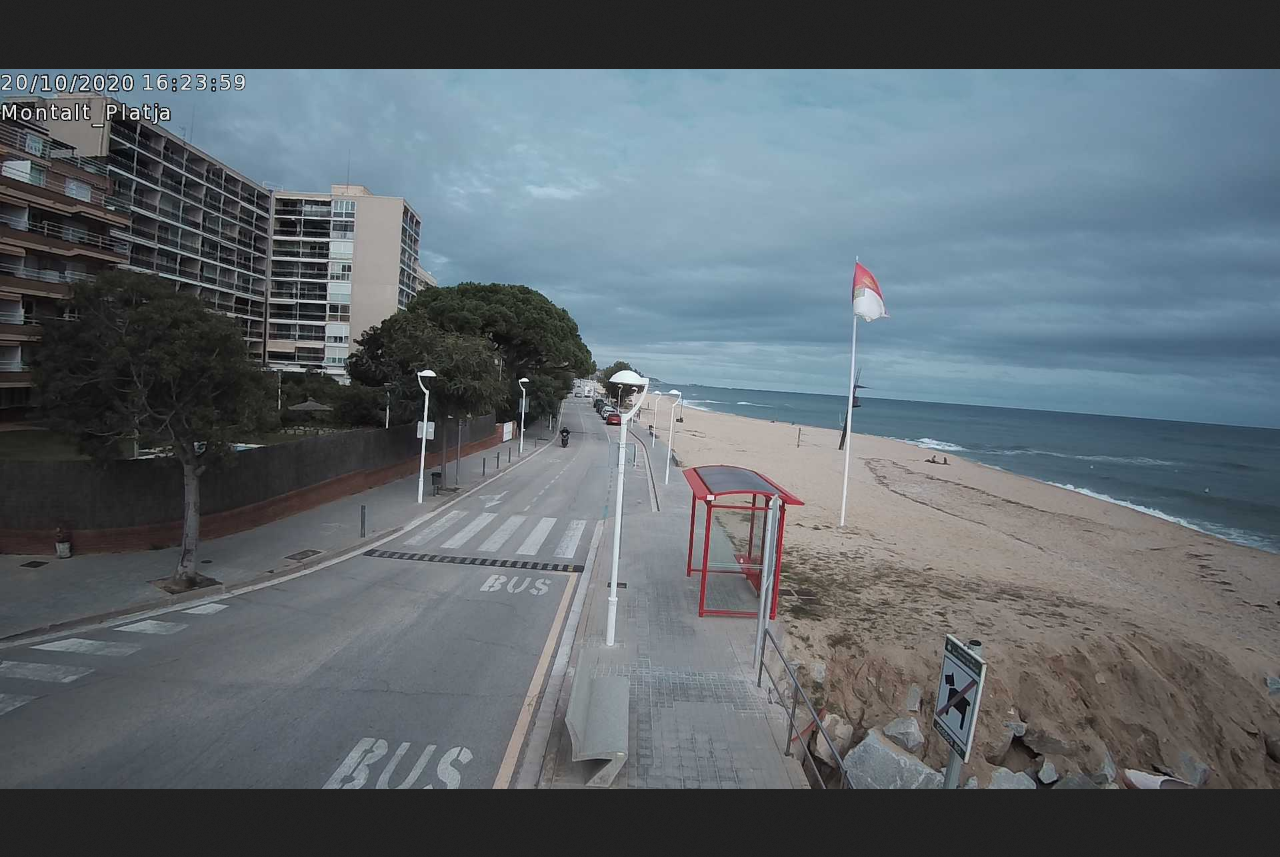maybe: (847, 260, 891, 326)
